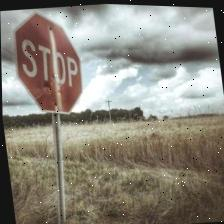Stop: (6, 8, 88, 120)
